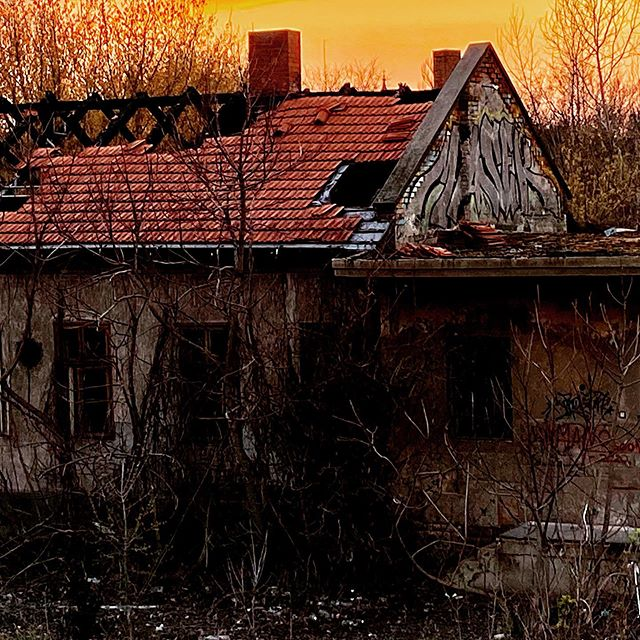building: (1, 80, 633, 552)
graffiti: (394, 120, 560, 228)
